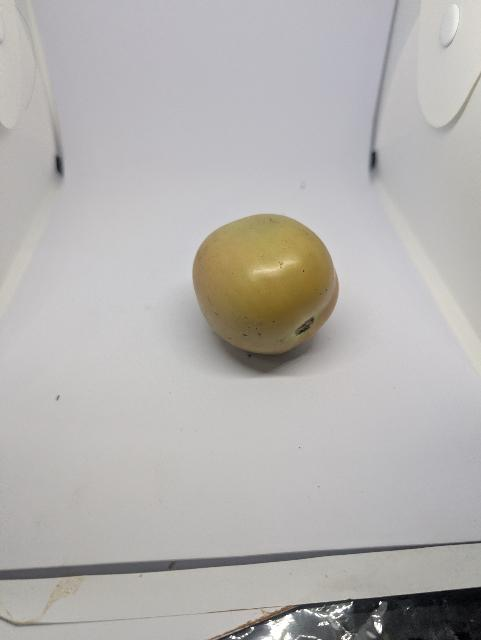breaker: (187, 208, 352, 361)
